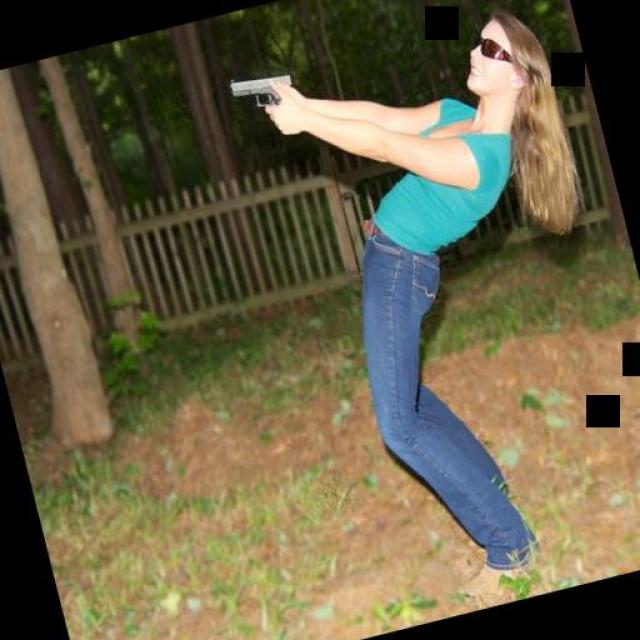gun: (225, 63, 304, 135)
